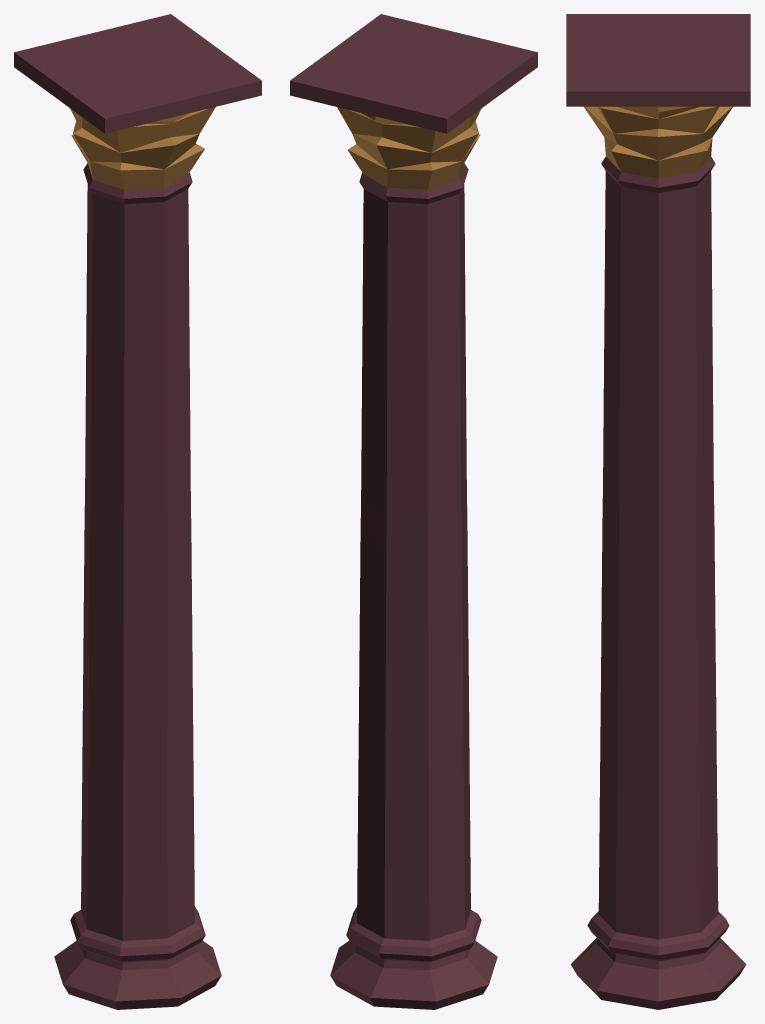
The model's file is SM_Pillar_Corinthian_Medium_Color_Empire.fbx.
The picture shows the model from 3 angles, left to right: view 1: azimuth 30°, elevation 25°; view 2: azimuth 150°, elevation 25°; view 3: azimuth 270°, elevation 25°; orthographic projection.
Visible parts, largest first — view 1: SM_Pillar_Corinthian_Medium_Color_Empire; view 2: SM_Pillar_Corinthian_Medium_Color_Empire; view 3: SM_Pillar_Corinthian_Medium_Color_Empire.
Boxes of the visible parts, box(x1,y1,x2,y2) form: SM_Pillar_Corinthian_Medium_Color_Empire: box(14, 14, 261, 1009); SM_Pillar_Corinthian_Medium_Color_Empire: box(290, 14, 537, 1009); SM_Pillar_Corinthian_Medium_Color_Empire: box(566, 14, 750, 1009).
Bounding box in the file's own units: 1.08 × 6 × 1.09.
